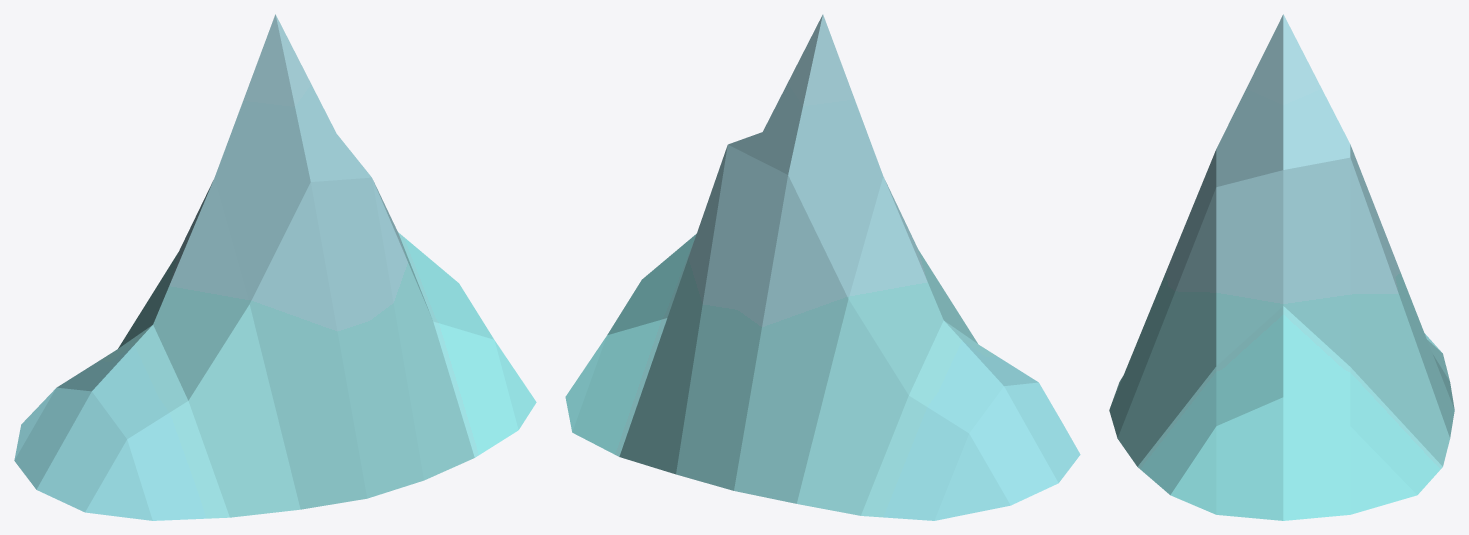
Rendered from Glazier3.fbx.
3 renders of one model, left to right at view 1: azimuth 30°, elevation 25°; view 2: azimuth 150°, elevation 25°; view 3: azimuth 270°, elevation 25°, orthographic. The views are drawn at different scales.
Parts seen in each view (by area): view 1: Glacier3; view 2: Glacier3; view 3: Glacier3.
Boxes of the visible parts, x1,y1,x2,y2 form: Glacier3: (14,14,536,520); Glacier3: (565,14,1080,520); Glacier3: (1109,14,1454,520).
Bounding box in the file's own units: 6.14 × 5.12 × 4.05.
